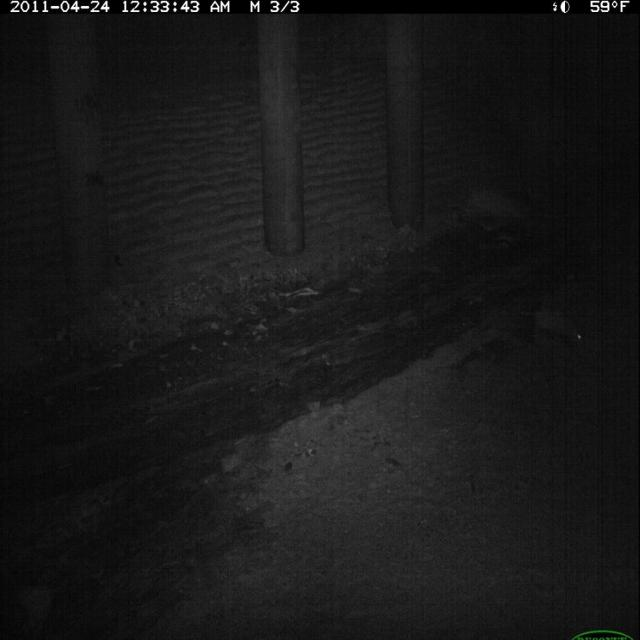opossum: (496, 303, 594, 357)
